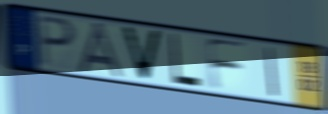A: (75, 21, 128, 81)
F: (204, 36, 249, 93)
I: (265, 45, 279, 99)
L: (169, 31, 202, 89)
P: (36, 13, 78, 68)
V: (119, 23, 164, 83)
